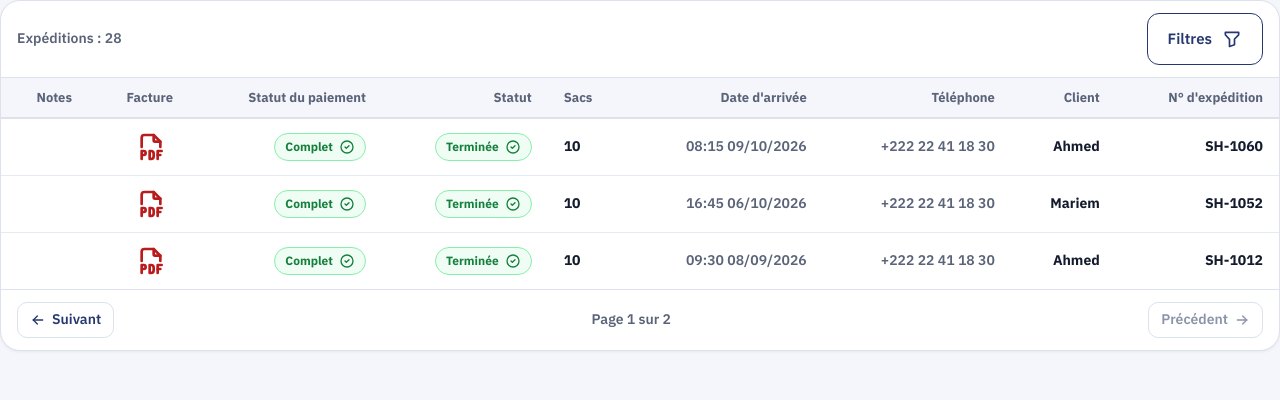
Test case: ShipmentHistory › says so when the next page cannot be loaded, and lets the user try again
Click the button "Suivant".
click(66, 320)  # box [17, 302, 114, 338]
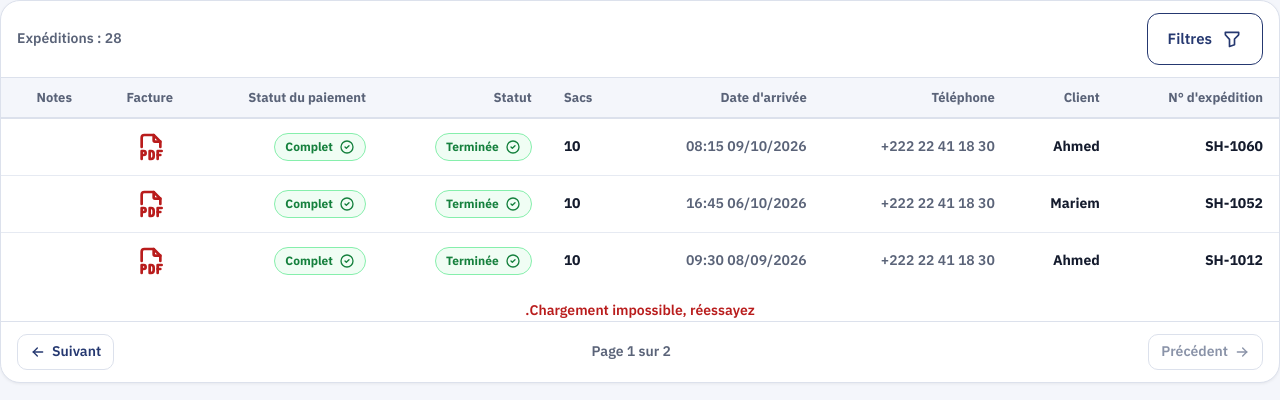
Expected: the button "Suivant" is shown, [17, 334, 114, 370]
Expected: the text "Chargement impossible, réessayez." is shown, [525, 300, 755, 320]
